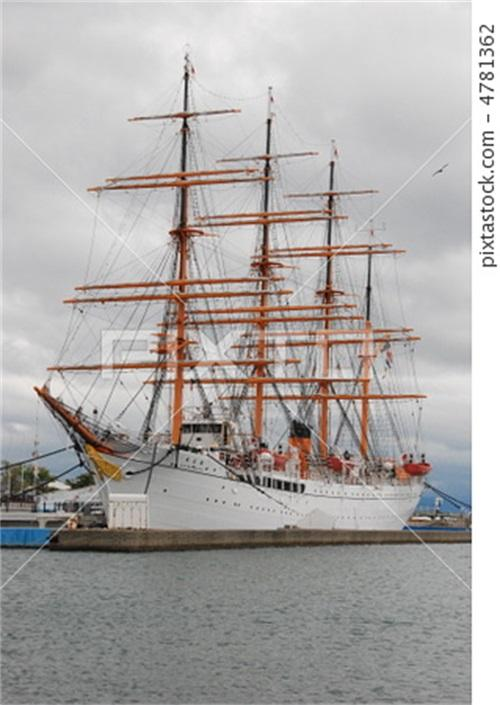Ship: (32, 54, 431, 533)
